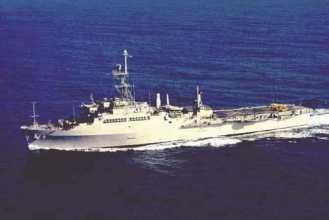warship: (17, 47, 329, 154)
